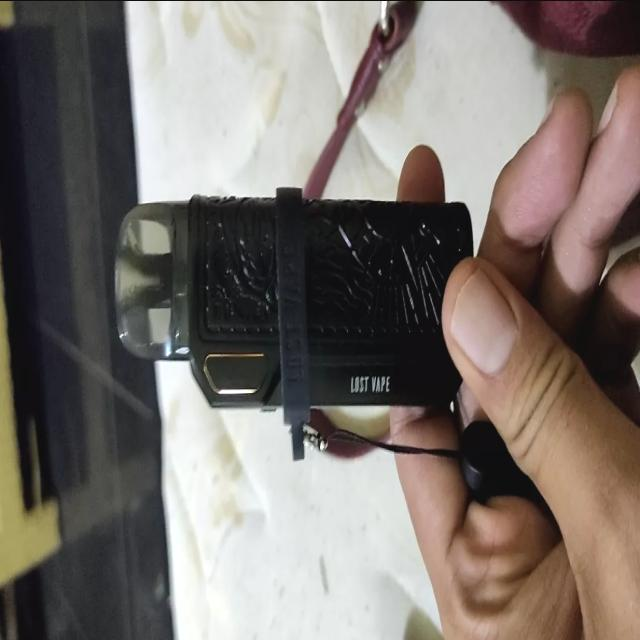Hazard: (116, 186, 470, 408)
